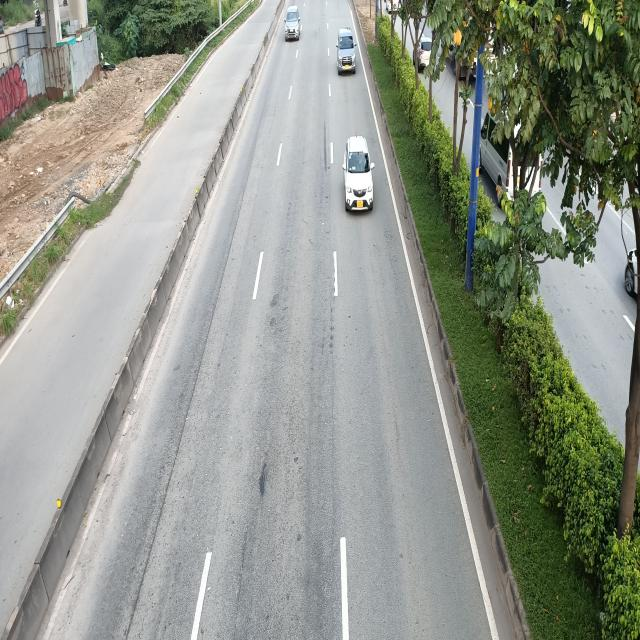car: (343, 140, 375, 217), (337, 28, 358, 75), (284, 7, 300, 41)
